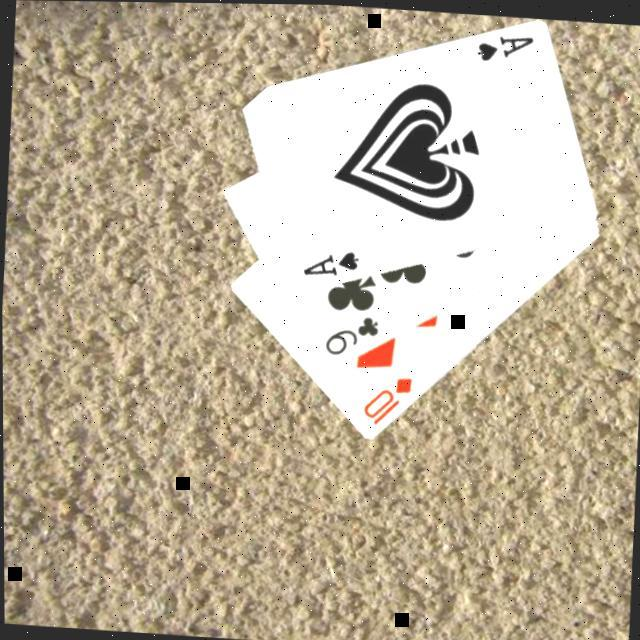10D: (358, 369, 414, 429)
9C: (319, 308, 382, 360)
AS: (471, 28, 536, 66), (297, 243, 361, 280)
